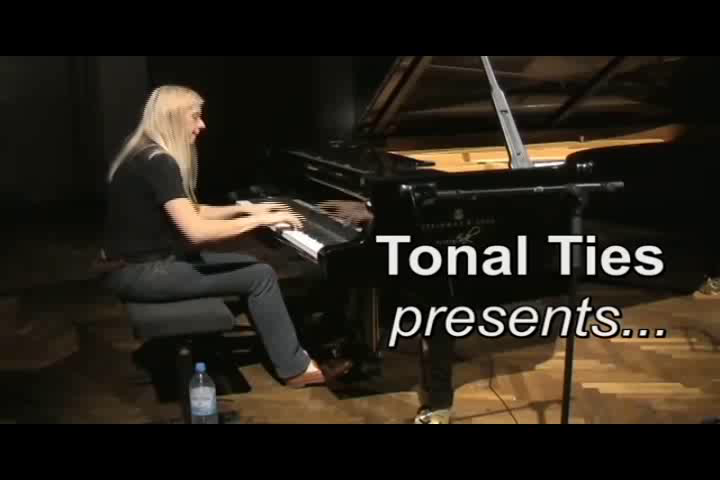keyboard: (230, 188, 370, 278)
